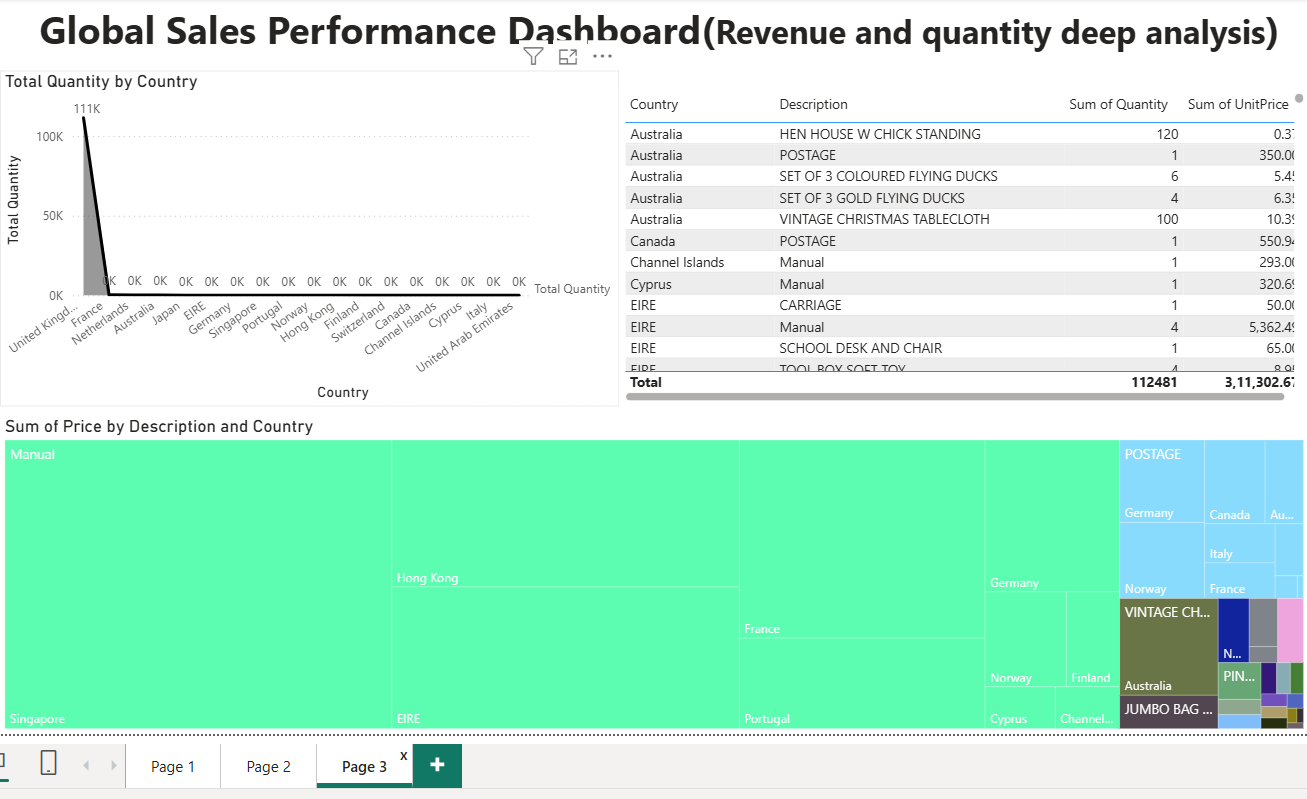

The dashboard page shown, as its layout file describes it:
{"tool":"powerbi","page":{"name":"Page 3","canvas":[1280,720],"ordinal":2},"visuals":[{"type":"textbox","box":[9.6,0,1270.7,71.4],"z":0},{"type":"lineChart","fields":{"Category":["Orders.Country"],"Y":["Orders.Total Quantity"]},"box":[0,71.4,605.1,328],"z":1},{"type":"tableEx","fields":{"Values":["Orders.Country","Orders.Description","Sum(Orders.Quantity)","Sum(Orders.UnitPrice)"]},"box":[605.1,87.8,675.1,311.5],"z":2},{"type":"treemap","fields":{"Group":["Orders.Description"],"Details":["Orders.Country"],"Values":["Sum(Orders.Price)"]},"box":[0,408.9,1280.3,311.5],"z":3}]}

Visuals, with their boxes on the page's 1280x720 design canvas (x1, y1, x2, y2). These are canvas units, not pixel positions in the 1307x799 screenshot, which may show the page scaled, cropped or inside an application window:
textbox: {"left": 10, "top": 0, "right": 1280, "bottom": 71}
lineChart - Orders.Country x Orders.Total Quantity: {"left": 0, "top": 71, "right": 605, "bottom": 399}
tableEx - Orders.Country x Orders.Description: {"left": 605, "top": 88, "right": 1280, "bottom": 399}
treemap - Orders.Description x Orders.Country: {"left": 0, "top": 409, "right": 1280, "bottom": 720}
